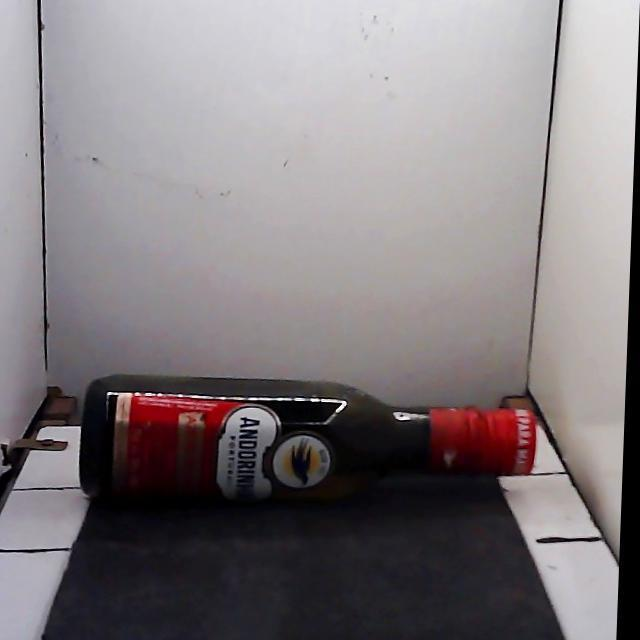vidro: (80, 375, 536, 502)
